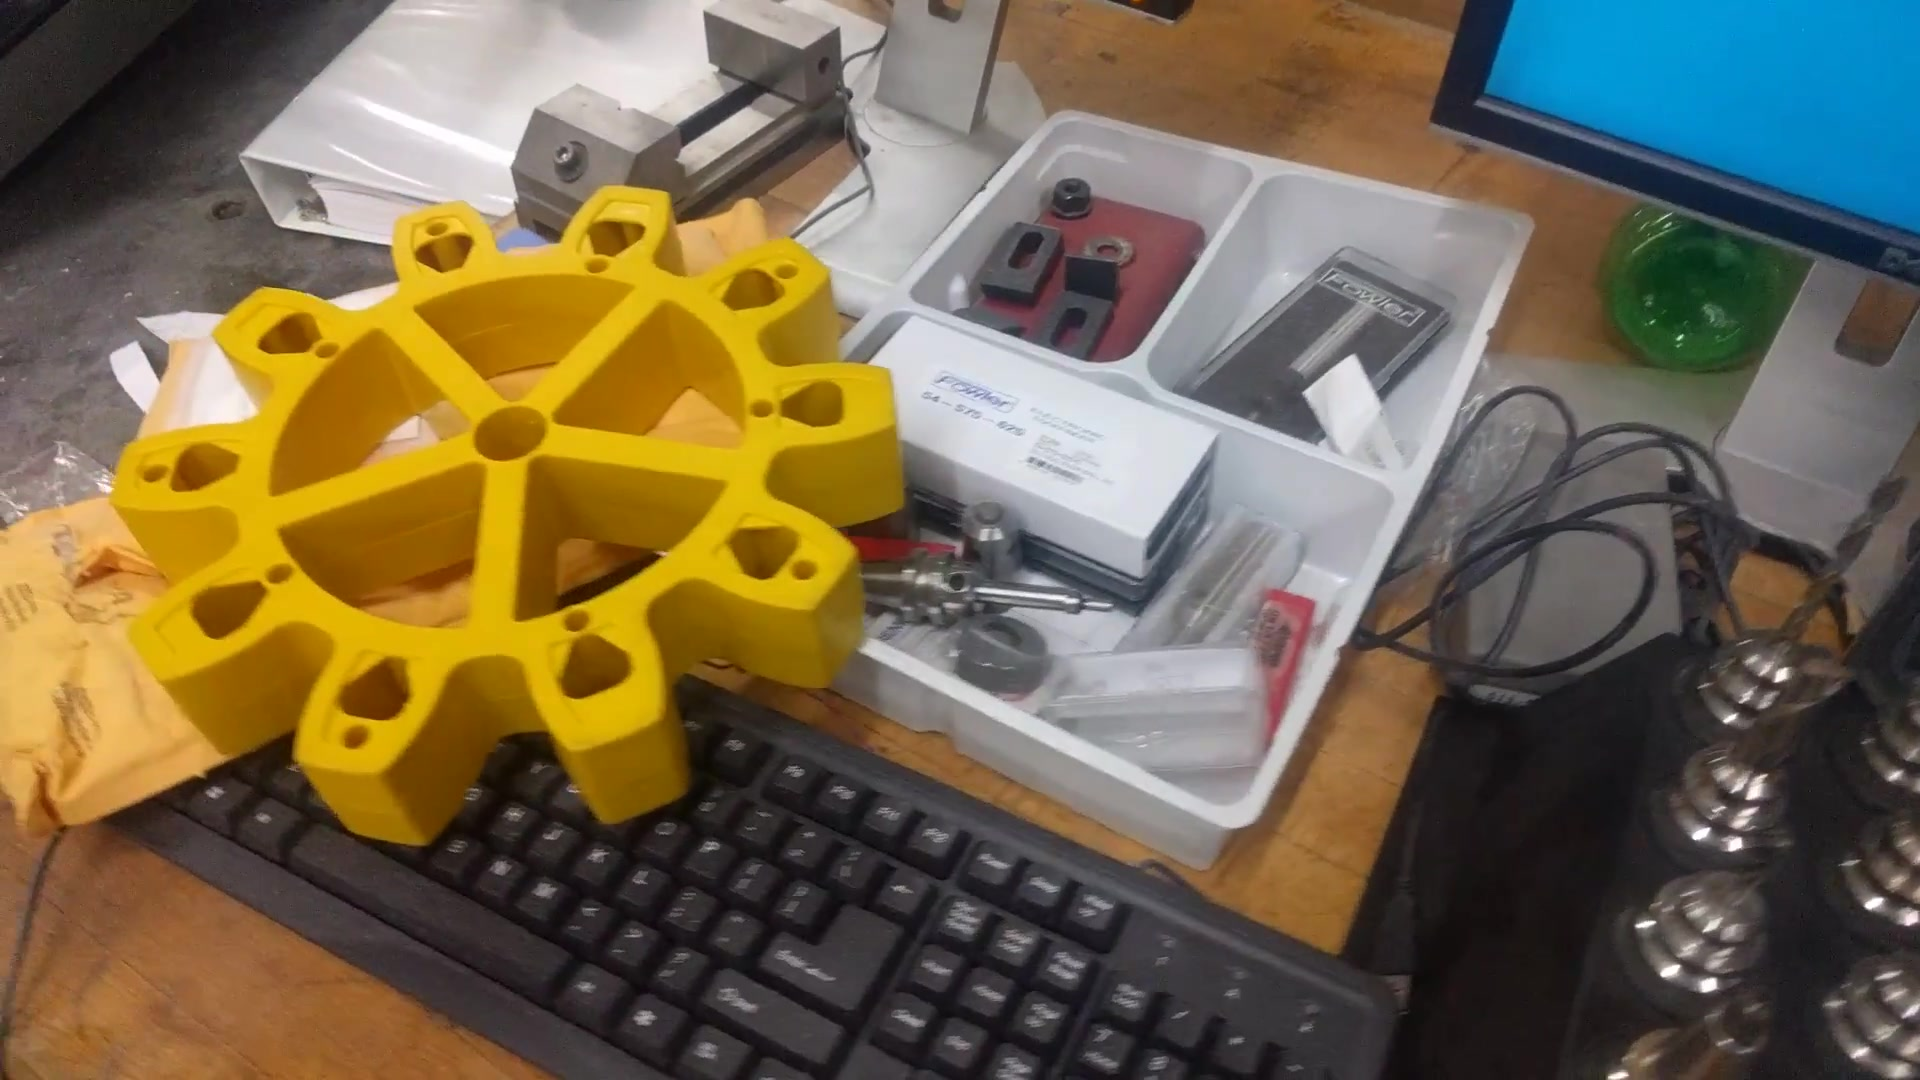gear: (105, 182, 930, 828)
